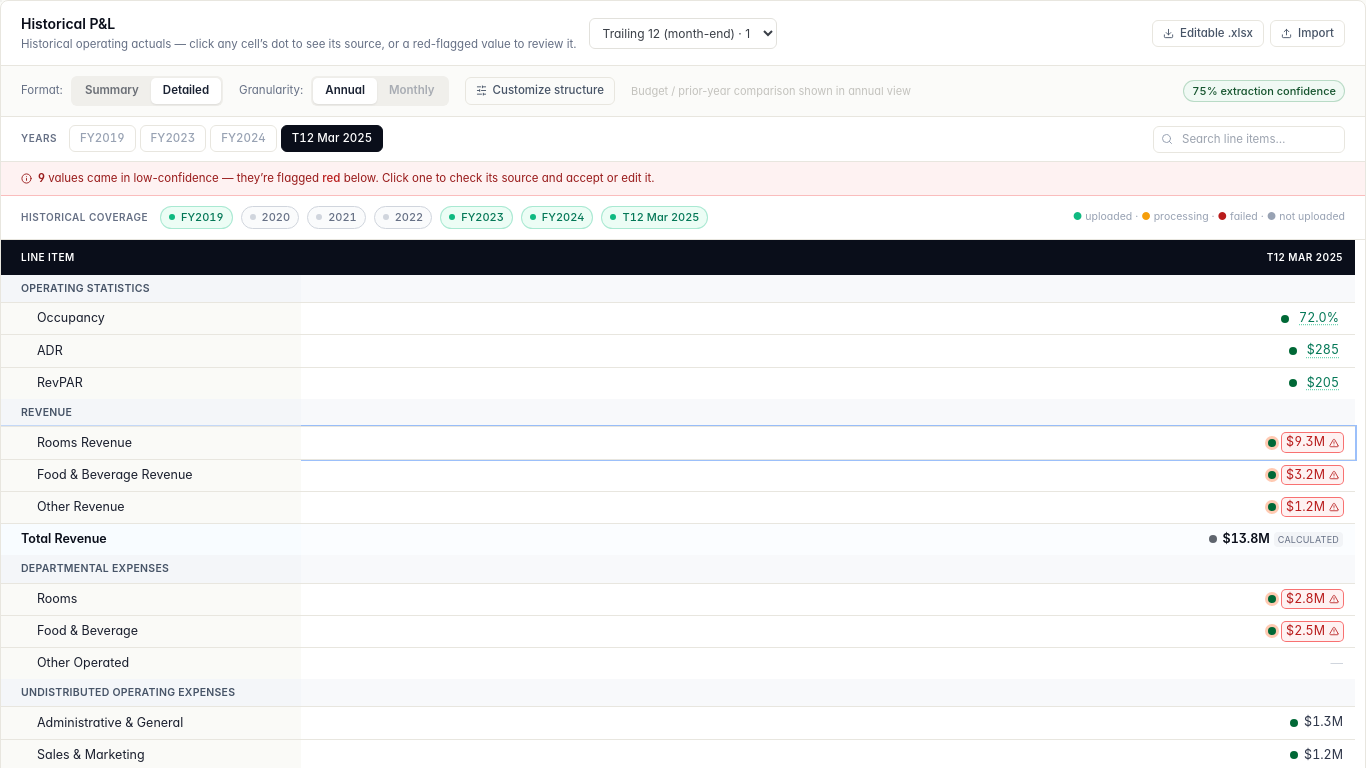
FON-41 #4 live — the period basis is on the column and in the panel › names the document AND the period basis in the SOURCE panel
Click the button "$9.3M".
click(1313, 443)  # box [1282,433,1343,452]
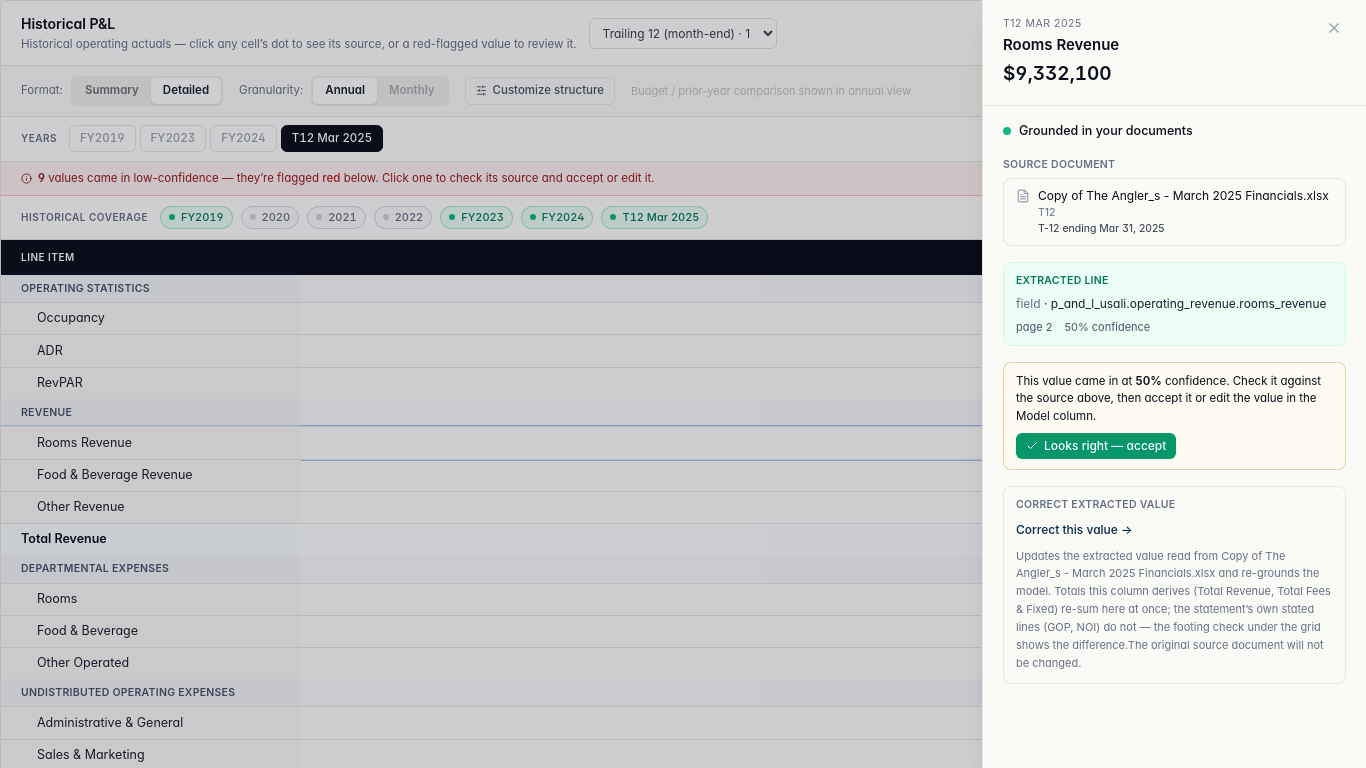
expect the text "Copy of The Angler_s - March 2025 Financials.xlsx" is shown: met, box [1038,187,1329,205]
expect the text "T-12 ending Mar 31, 2025" is shown: met, box [1038,222,1165,235]
